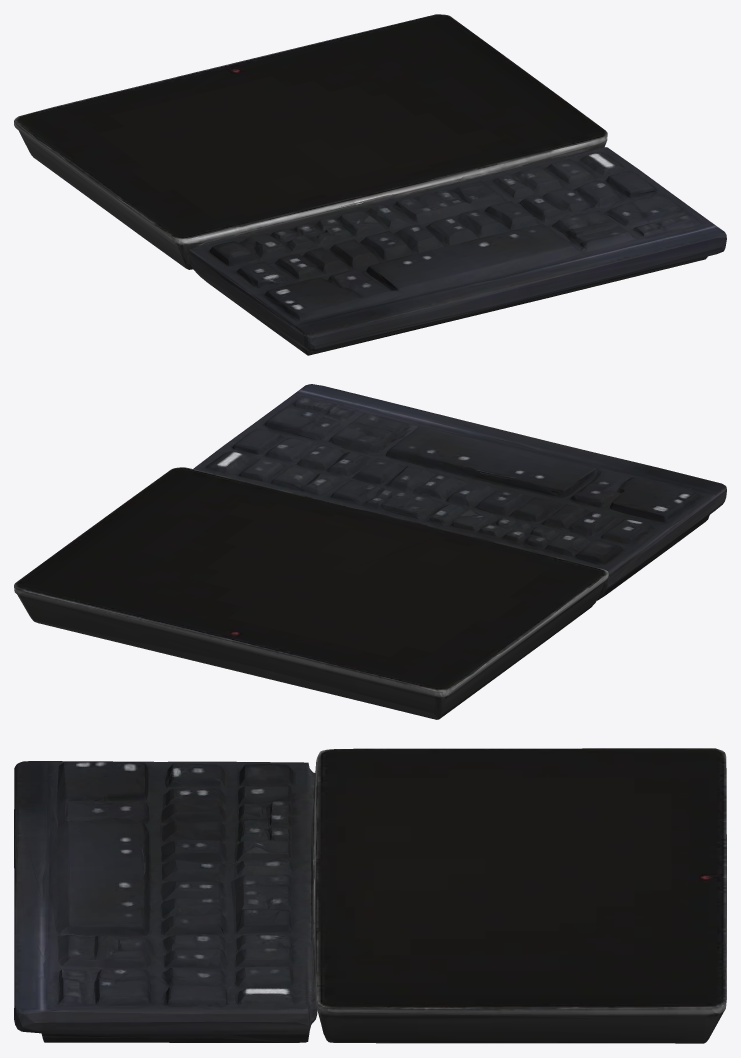
The picture shows the model from 3 angles, top to bottom: view 1: azimuth 30°, elevation 25°; view 2: azimuth 150°, elevation 25°; view 3: azimuth 270°, elevation 25°; orthographic projection. The views are drawn at different scales.
Visible parts, largest first — view 1: geometry_0; view 2: geometry_0; view 3: geometry_0.
Part boxes in pixels (<box>): geometry_0: <box>14,14,726,355</box>; geometry_0: <box>14,384,726,719</box>; geometry_0: <box>14,748,726,1043</box>.
Bounding box in the file's own units: 0.8612 × 0.0735 × 1.
1 material, 1 textured.
